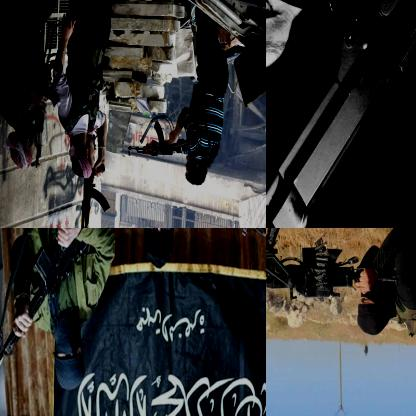pistol: (266, 0, 415, 227)
rifle: (0, 228, 108, 411), (266, 253, 406, 309), (30, 68, 62, 173), (124, 120, 189, 159), (76, 158, 111, 227)
